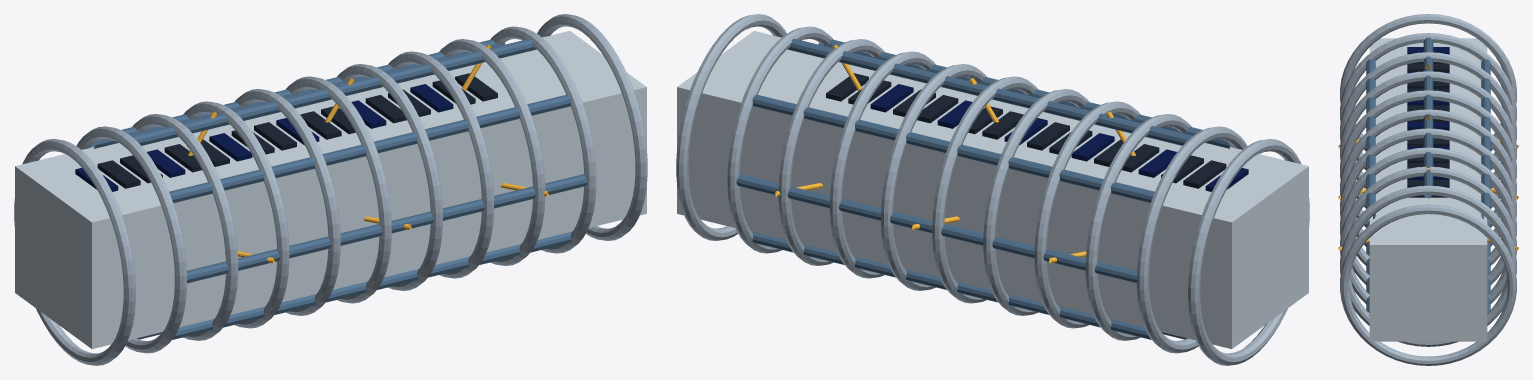
Rendered from 02_L85_StationOrbitalTrussSpine.fbx.
3 renders of one model, left to right at view 1: azimuth 30°, elevation 25°; view 2: azimuth 150°, elevation 25°; view 3: azimuth 270°, elevation 25°, orthographic. The views are drawn at different scales.
Visible parts, largest first — view 1: L85_StationOrbitalTrussSpine; view 2: L85_StationOrbitalTrussSpine; view 3: L85_StationOrbitalTrussSpine.
Part boxes in pixels (box(x1,y1,x2,y2)): L85_StationOrbitalTrussSpine: box(14, 14, 647, 365); L85_StationOrbitalTrussSpine: box(676, 14, 1309, 365); L85_StationOrbitalTrussSpine: box(1338, 14, 1518, 365).
Size of the model in its own units: 770 by 284 by 284.
